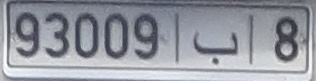0: (103, 12, 130, 60), (74, 12, 99, 60)
3: (44, 12, 71, 60)
8: (272, 15, 300, 63)
9: (13, 10, 41, 58), (133, 13, 160, 60)
b: (193, 28, 240, 66)
